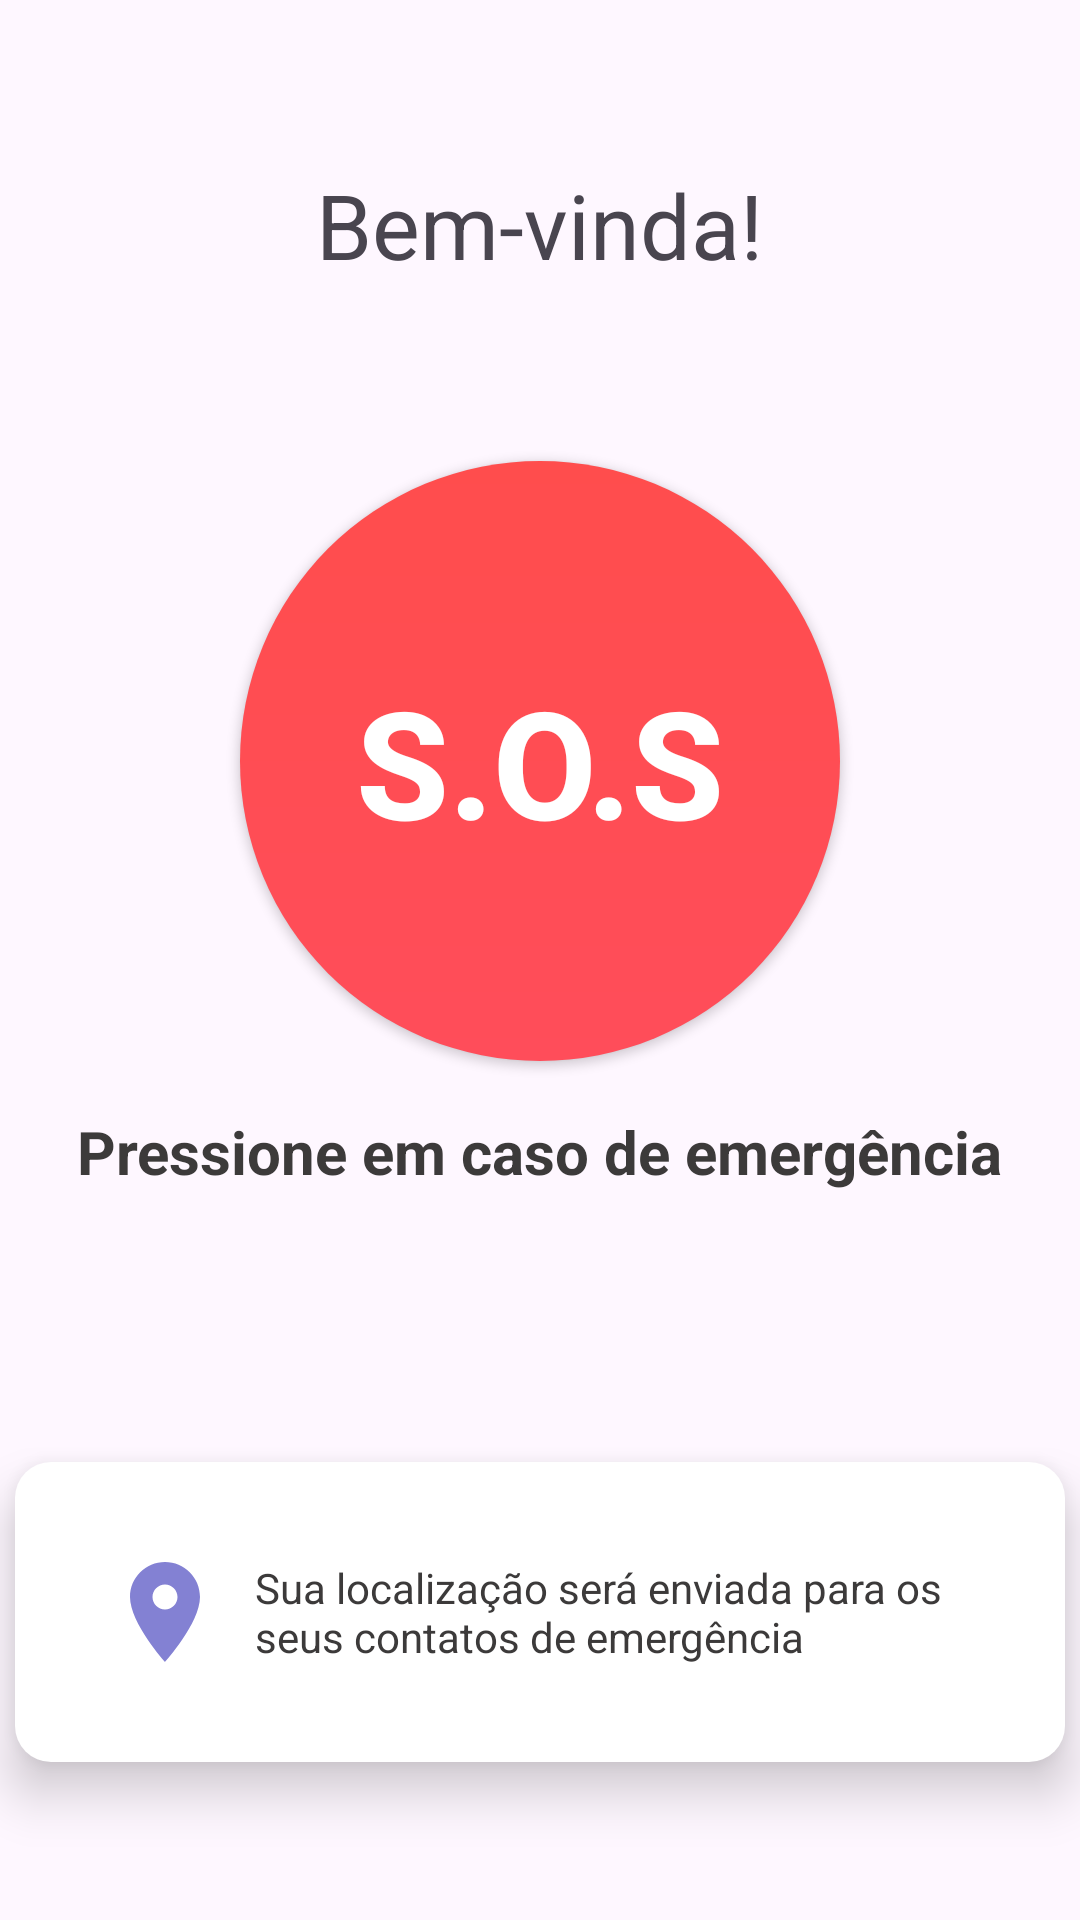

Icons on this 1080px x 1920px Android screen, each with the point to tap as [x,y]:
location on: [165,1612]
